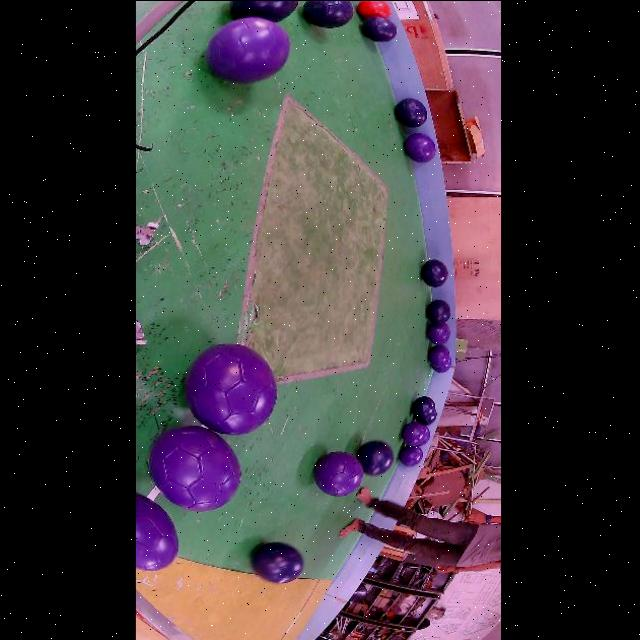B: (253, 541, 304, 583), (230, 0, 299, 21), (304, 0, 355, 28), (357, 439, 394, 475), (395, 96, 428, 127), (361, 15, 398, 40), (422, 259, 449, 287), (427, 298, 451, 322), (413, 396, 436, 416), (417, 409, 437, 425)
P: (186, 343, 277, 434), (149, 425, 242, 511), (206, 16, 290, 82), (136, 492, 180, 570), (315, 451, 364, 496), (404, 132, 437, 162), (401, 420, 427, 446), (428, 344, 451, 367), (427, 322, 451, 344), (401, 444, 423, 466), (432, 357, 453, 372), (420, 425, 431, 445)
R: (359, 0, 392, 16)
